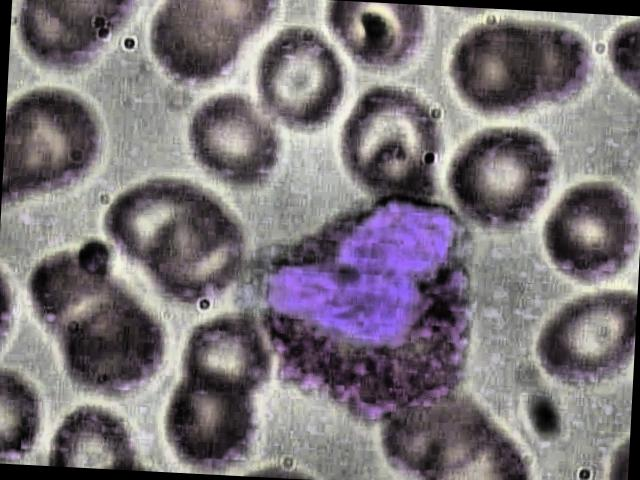RBC: (334, 78, 451, 207), (433, 125, 557, 235), (46, 298, 170, 406), (136, 206, 260, 314), (519, 183, 640, 293), (150, 370, 273, 476), (3, 92, 124, 199), (528, 286, 638, 396), (252, 28, 350, 138), (182, 87, 280, 196)
WBC: (242, 189, 484, 434)
